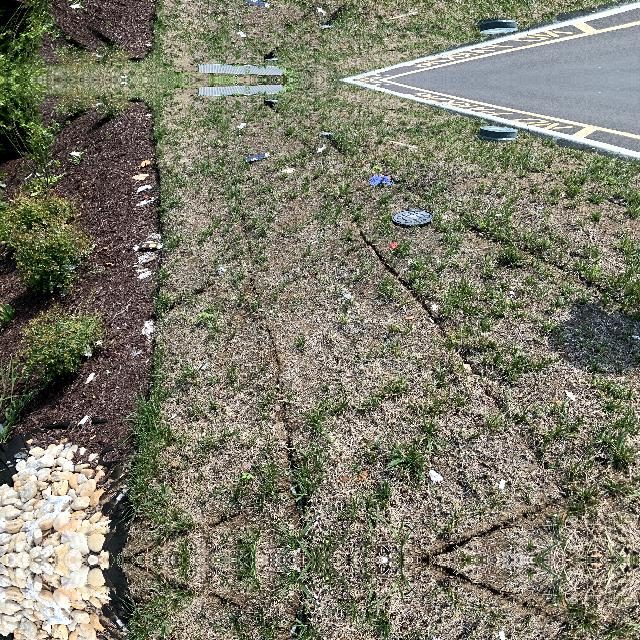Cardboard: (241, 150, 269, 162), (135, 240, 161, 252), (241, 0, 269, 10)
Paper: (141, 318, 157, 342), (388, 139, 418, 149), (388, 11, 418, 21), (134, 268, 154, 278), (314, 142, 330, 154), (314, 6, 330, 18), (133, 171, 151, 181), (235, 121, 248, 131), (235, 29, 248, 39), (388, 239, 398, 251), (68, 149, 82, 157), (68, 3, 82, 11)
